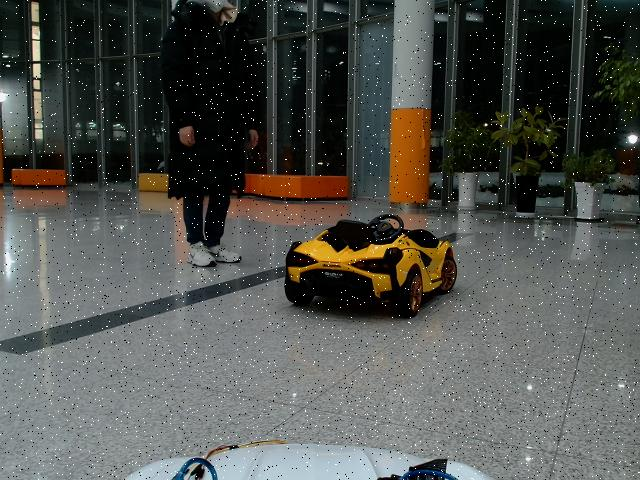car: (284, 215, 458, 319)
